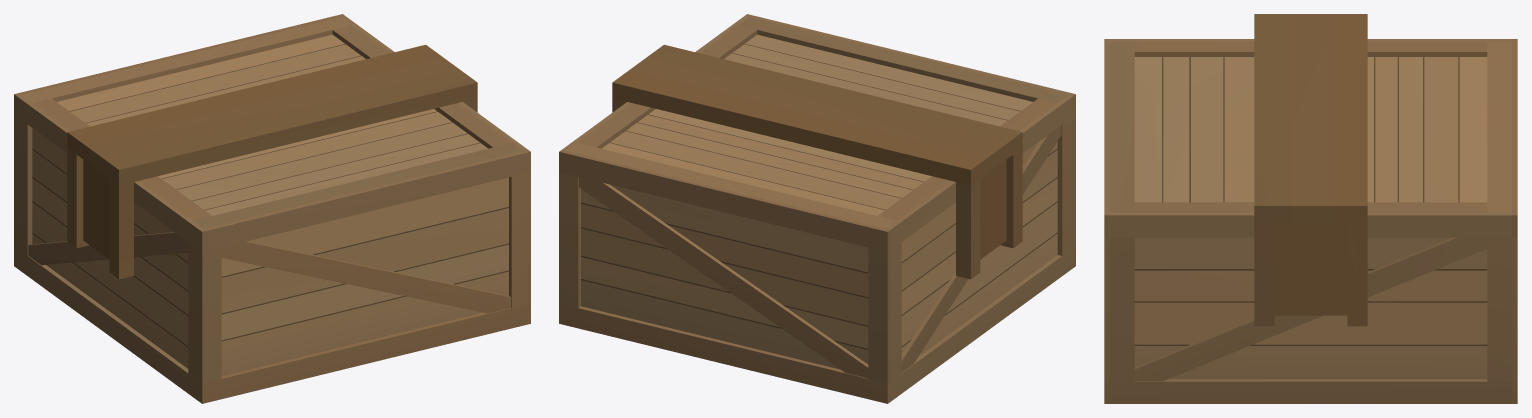
Rendered from crate.factory.pale.glb.
3 renders of one model, left to right at view 1: azimuth 30°, elevation 25°; view 2: azimuth 150°, elevation 25°; view 3: azimuth 270°, elevation 25°, orthographic. The views are drawn at different scales.
Parts seen in each view (by area): view 1: crate_factory_pale; view 2: crate_factory_pale; view 3: crate_factory_pale.
Boxes of the visible parts, bbox=[...] form: crate_factory_pale: bbox=[14, 14, 530, 403]; crate_factory_pale: bbox=[559, 14, 1075, 403]; crate_factory_pale: bbox=[1104, 14, 1517, 403].
Size of what is drawn, in the model's own units: 2.4 by 1.2 by 2.18.
